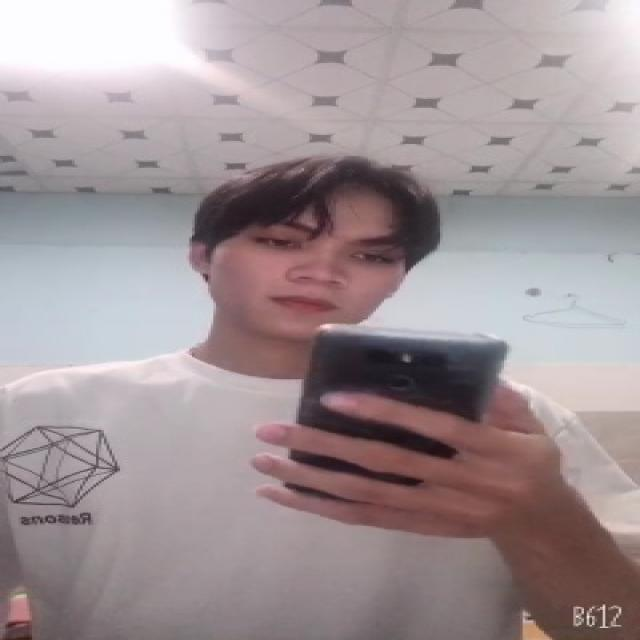Phone: (285, 325, 511, 501)
